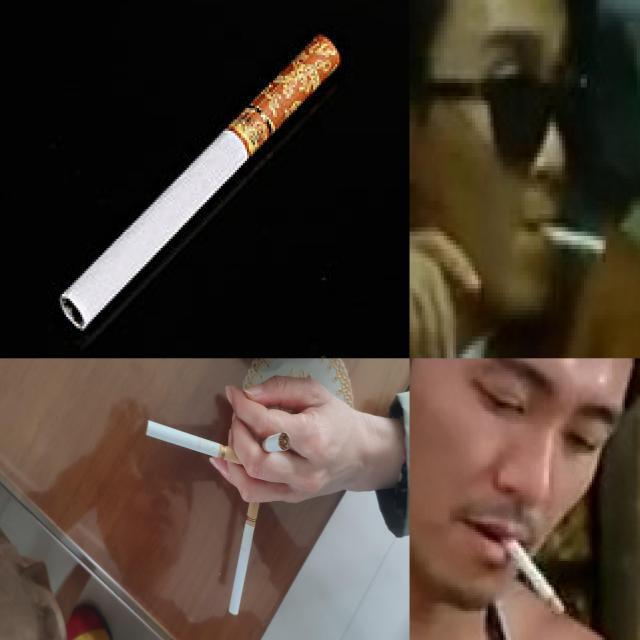smoking: (58, 36, 343, 334), (496, 528, 566, 615), (145, 418, 249, 469), (228, 487, 262, 616), (528, 217, 608, 257), (260, 432, 293, 454)
